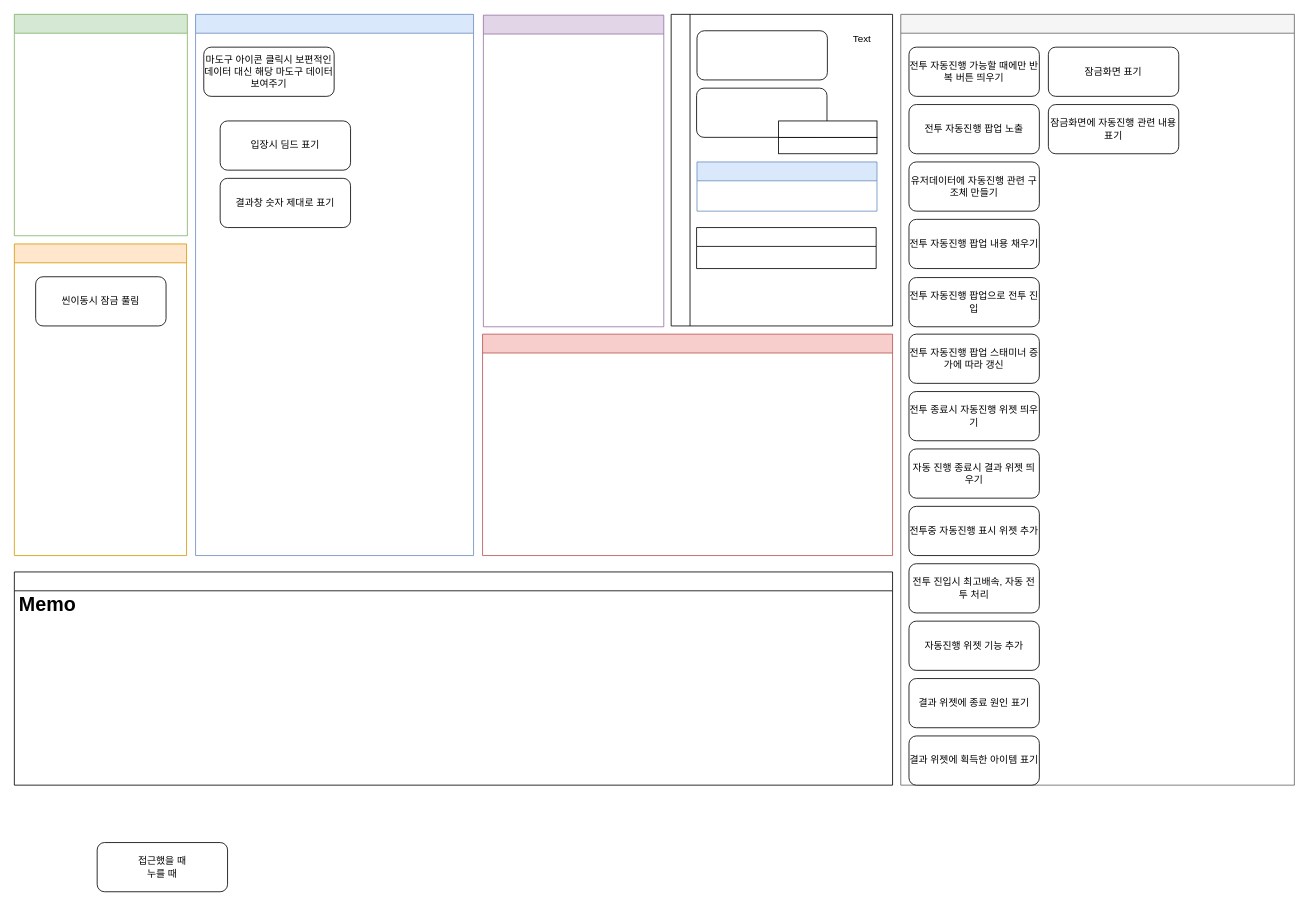
The diagram is 1309 pixels wide and 906 high, and some of its shapes have lost their labels. Here are the shapes that lost their labels. From the top down, the box of each, then its label:
(14, 14, 187, 236): 분석 | 논의
(483, 14, 664, 327): 고려
(670, 14, 893, 326): Tool
(195, 14, 474, 556): 구현
(14, 243, 187, 556): 대기 | 요청
(900, 14, 1294, 785): 폐기 | 완료
(482, 333, 893, 556): 에러 | 수정
(14, 571, 893, 785): My Comment
